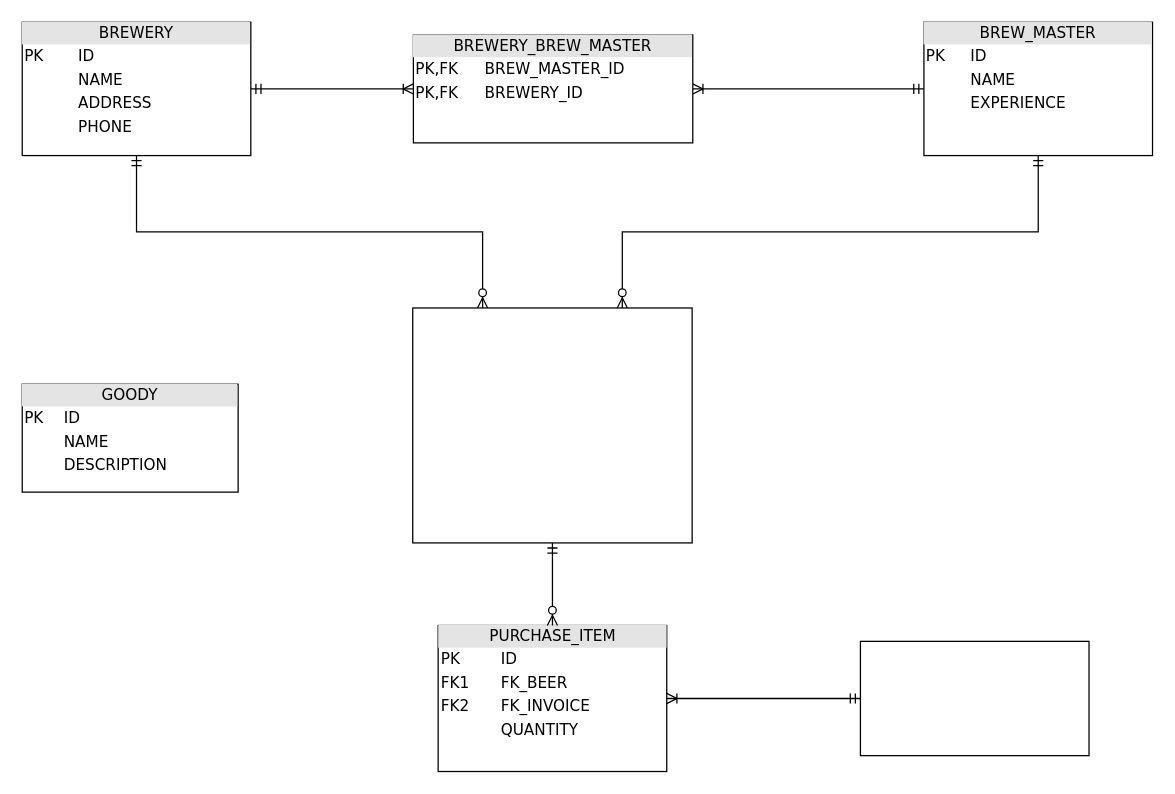
Image size: 1175x794. Some labels were removed from this diagram. The box of each missing label's shape, as (x1, y1, x2, y2) in pixels:
BEER PK ID FK1 FK_BREWERY FK2 FK_BREW_MASTER NAME COLOR IBU ALCOHOL PRICE: (411, 307, 692, 543)
INVOICE PK ID DATE TOTAL: (859, 640, 1089, 756)
